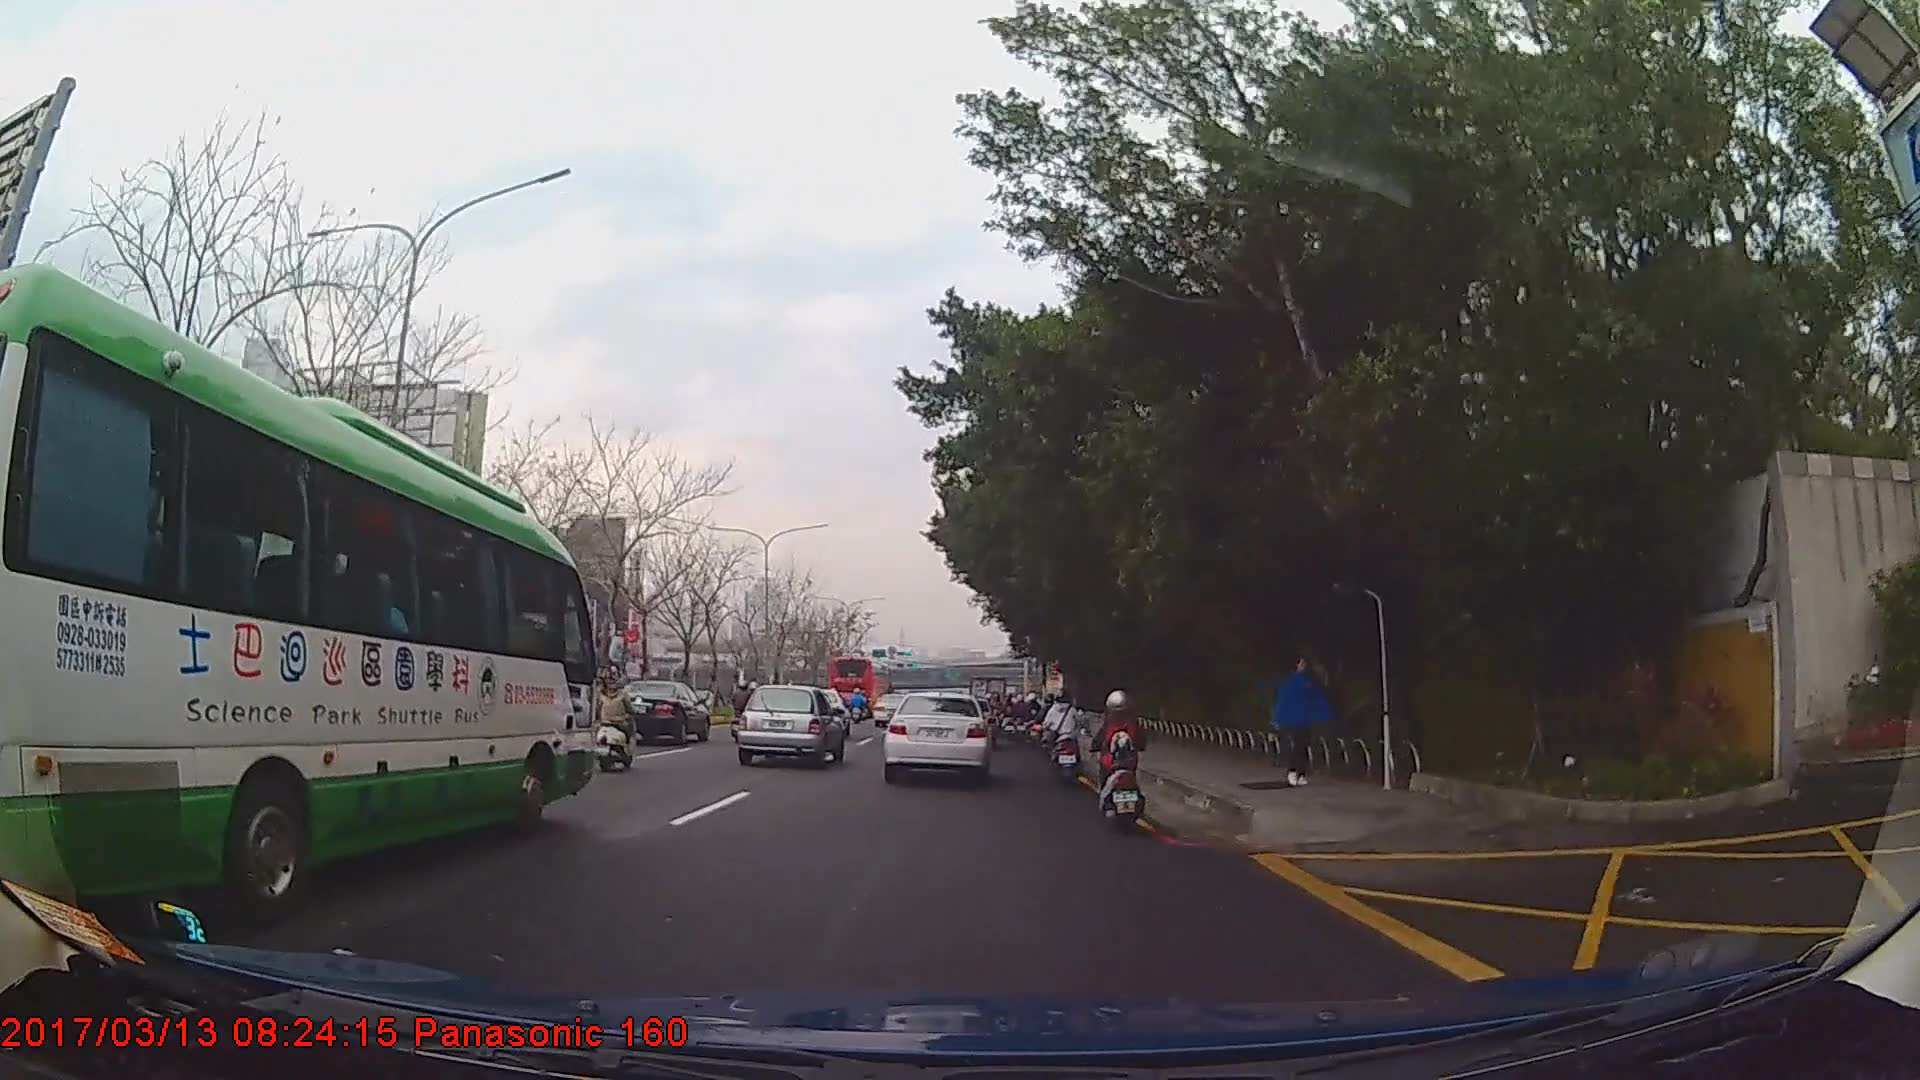pedestrian: (1276, 652, 1328, 787)
rider: (1089, 687, 1145, 828), (594, 666, 638, 773), (1041, 689, 1084, 778), (1037, 691, 1058, 755), (733, 678, 757, 729)
vehicle: (0, 262, 596, 924), (882, 688, 991, 782), (734, 681, 843, 764), (613, 675, 710, 746), (829, 651, 897, 713)
